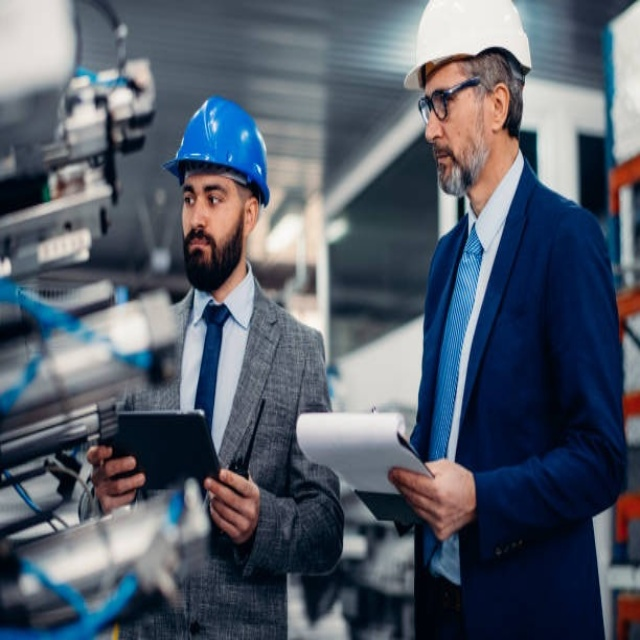Gafas: (418, 77, 485, 127)
Sin_gafas: (180, 177, 231, 213)
Sin_guantes: (386, 456, 474, 542), (203, 466, 262, 547), (87, 443, 144, 515)
Sin_mascara: (431, 141, 462, 191), (183, 227, 220, 265)
